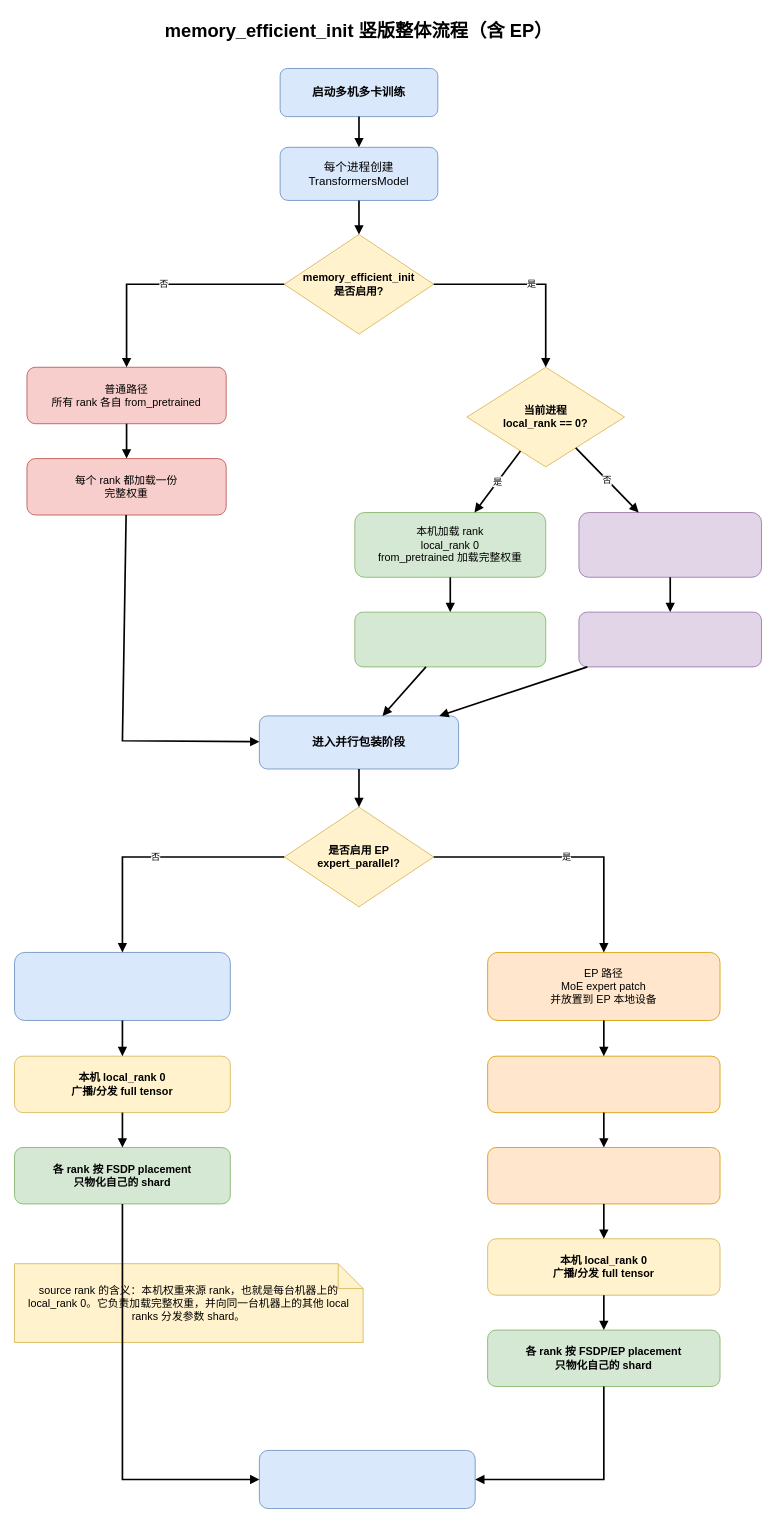
Some shapes in this 776 by 1523 pixel diagram are drawn without their labels. The centre of each missing label's shape, as x and y in pixels:
expert 参数按 ep_fsdp_mesh 分片 shard placement 为 Shard 1: [603,1084]
local_rank 0 保存本机 full state_dict: [450,639]
其他 ranks 等待本机 local_rank 0 分发权重: [670,639]
本机其他 ranks init_empty_weights 创建 meta 模型: [670,544]
进入 LoRA / optimizer / training: [367,1479]
非 EP 路径 FSDP2 fully_shard 所有参数按 fsdp_mesh 分片: [122,986]
非 expert 参数按 fsdp_mesh 分片 ignored_params 跳过 expert_params: [603,1175]
